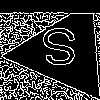S: (39, 27, 80, 76)
